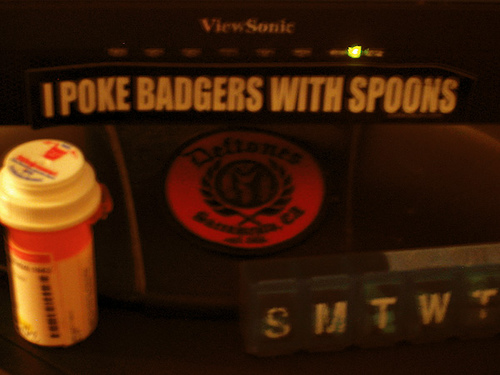pill bottle: (1, 137, 102, 348)
